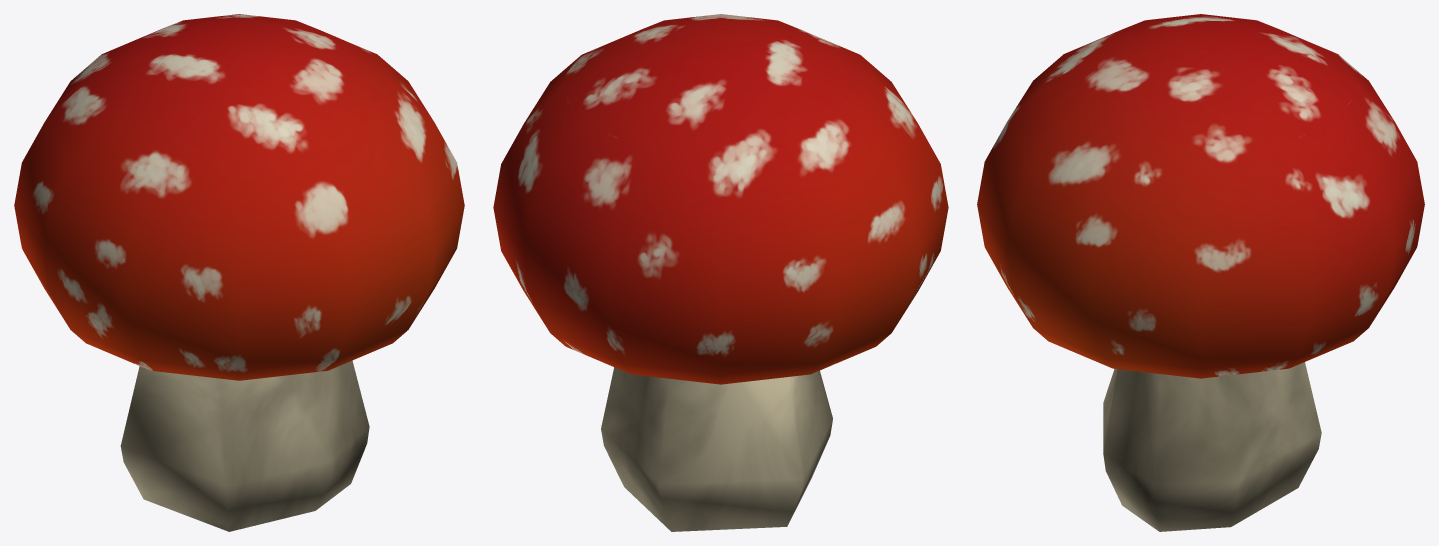
Rendered from smallShroom.fbx.
The picture shows the model from 3 angles, left to right: view 1: azimuth 30°, elevation 25°; view 2: azimuth 150°, elevation 25°; view 3: azimuth 270°, elevation 25°; orthographic projection.
Visible parts, largest first — view 1: SmallShroom; view 2: SmallShroom; view 3: SmallShroom.
Part boxes in pixels (x1,y1,x2,y2): SmallShroom: (14, 14, 464, 531); SmallShroom: (493, 14, 948, 531); SmallShroom: (977, 14, 1424, 531).
Size of the model in its own units: 0.2298 by 0.2541 by 0.2298.
